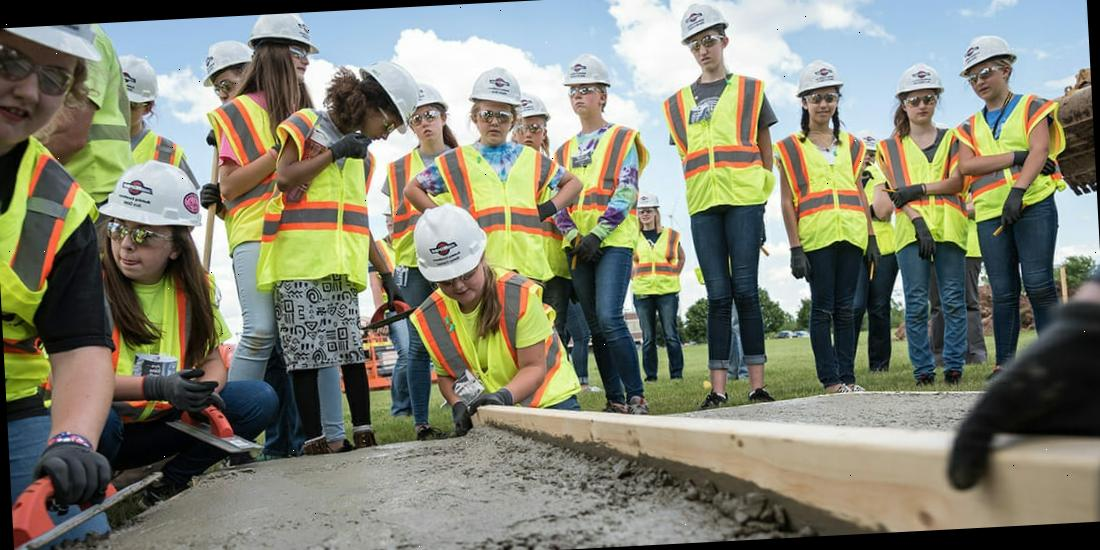helmet: (94, 159, 204, 230), (410, 200, 490, 284), (358, 60, 420, 136), (0, 24, 104, 68), (245, 13, 323, 64), (196, 38, 255, 92), (955, 34, 1019, 80), (462, 64, 524, 110), (112, 55, 160, 106), (675, 0, 729, 42), (560, 50, 613, 90), (796, 56, 845, 95), (892, 62, 942, 97), (410, 80, 452, 116), (516, 90, 550, 121), (48, 432, 92, 452), (636, 191, 662, 212)
wear: (0, 150, 99, 402), (402, 278, 541, 394), (272, 140, 378, 284), (99, 268, 216, 390), (673, 76, 773, 216), (962, 100, 1061, 226), (461, 138, 552, 274), (214, 91, 290, 244), (555, 126, 644, 247), (783, 129, 867, 254), (888, 129, 968, 254), (624, 228, 682, 298), (382, 150, 442, 216), (107, 128, 182, 166)
